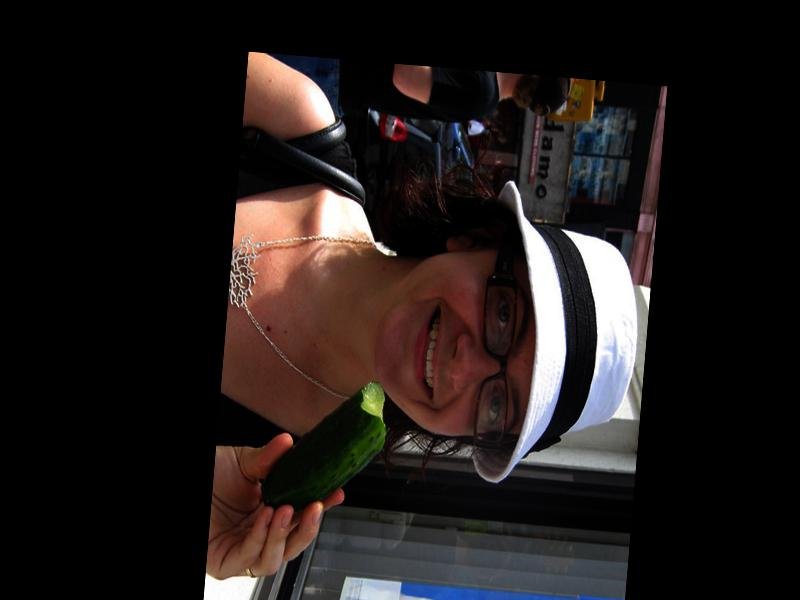Cucumber: (259, 375, 389, 521)
